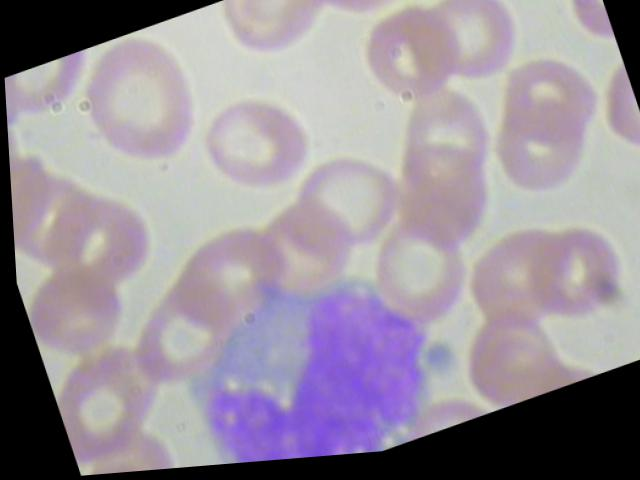Red Blood Cells: (65, 23, 215, 187), (188, 83, 330, 217), (374, 135, 509, 271), (338, 0, 480, 127), (481, 45, 613, 179), (281, 145, 405, 273), (14, 254, 137, 381), (455, 226, 581, 349), (403, 0, 545, 109), (481, 102, 606, 225), (508, 222, 633, 345), (68, 424, 188, 476)
White Blood Cells: (154, 245, 444, 470)
